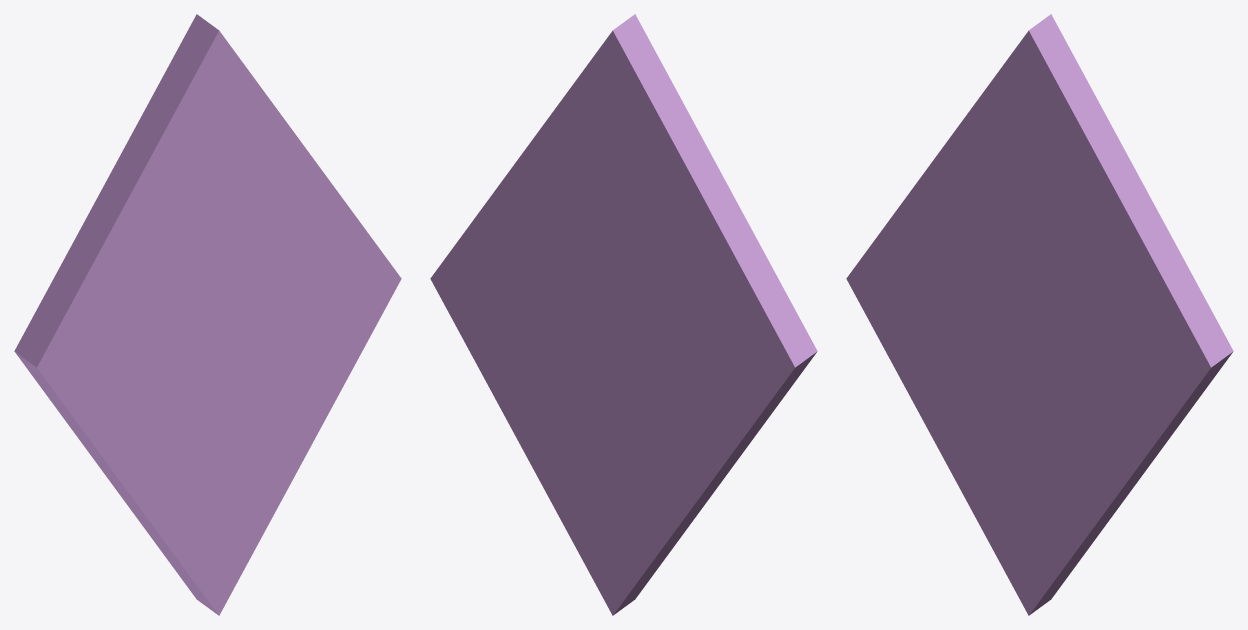
File: badge_remy.glb
3 renders of one model, left to right at view 1: azimuth 30°, elevation 25°; view 2: azimuth 150°, elevation 25°; view 3: azimuth 330°, elevation 25°, orthographic.
Visible parts, largest first — view 1: badge; view 2: badge; view 3: badge.
Part boxes in pixels (x1,y1,x2,y2): badge: (14, 14, 401, 615); badge: (430, 14, 817, 615); badge: (846, 14, 1233, 615).
Bounding box in the file's own units: 1.5 × 2.3 × 0.16.
